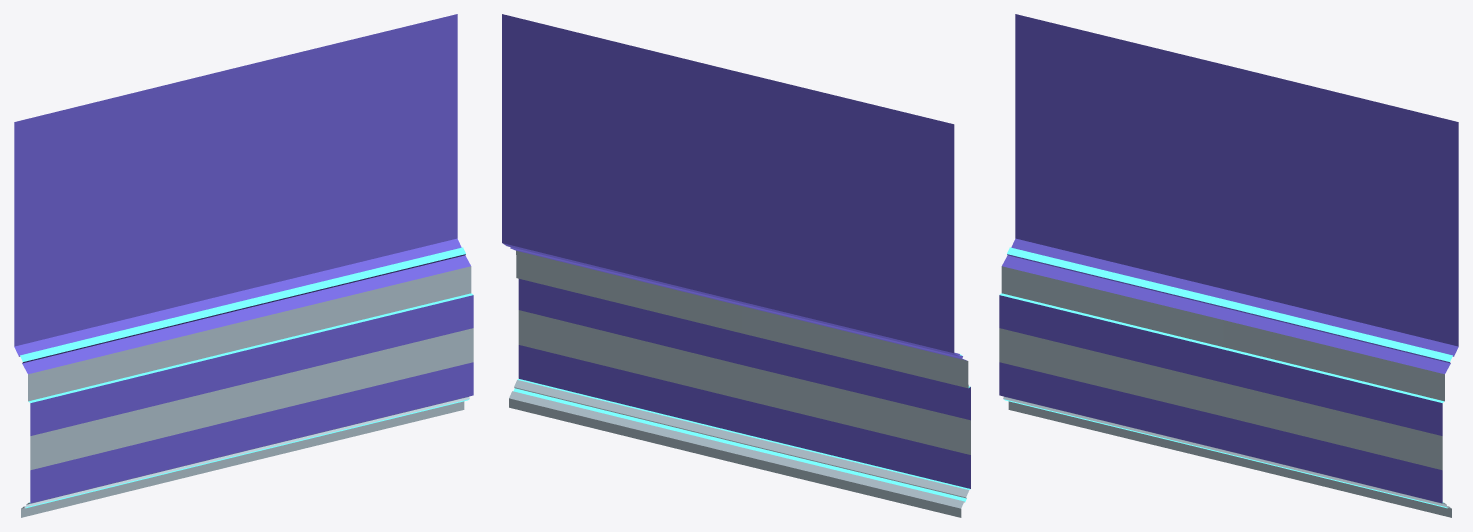
Rendered from StriaghtWall_A_Tall.fbx.
3 renders of one model, left to right at view 1: azimuth 30°, elevation 25°; view 2: azimuth 150°, elevation 25°; view 3: azimuth 330°, elevation 25°, orthographic. The views are drawn at different scales.
Parts seen in each view (by area): view 1: StraightWall; view 2: StraightWall; view 3: StraightWall.
Boxes of the visible parts, x1,y1,x2,y2 form: StraightWall: [14, 14, 473, 517]; StraightWall: [502, 14, 970, 517]; StraightWall: [999, 14, 1458, 517].
Size of the model in its own units: 1925 by 1622 by 125.
